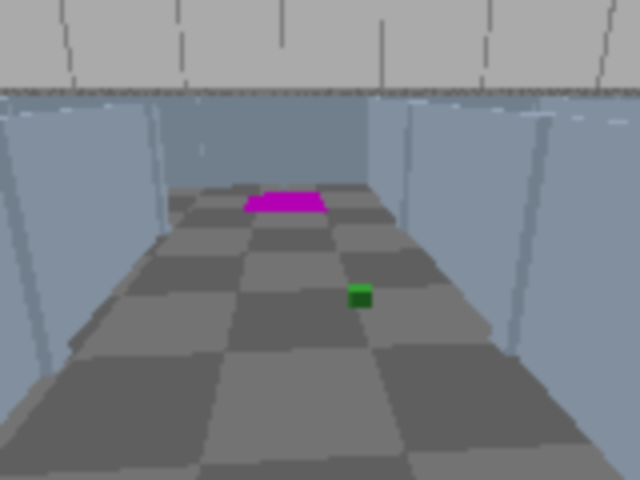goal_zone: (243, 193, 326, 213)
puck: (348, 284, 371, 309)
